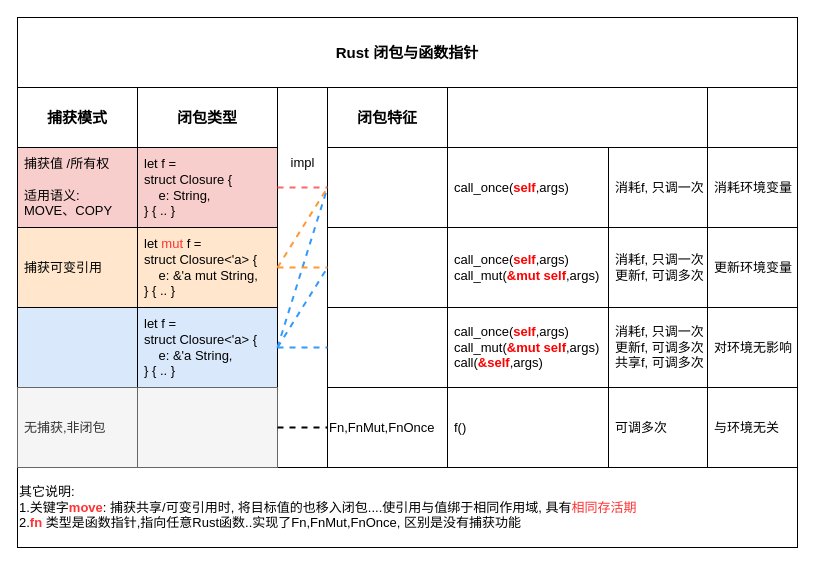
Some shapes in this 815 by 565 pixel diagram are drawn without their labels. Each missing label, with the box of its shape:
Fn: FnMut,FnOnce: (326, 306, 448, 388)
FnMut: FnOnce: (326, 226, 448, 308)
FnOnce: (326, 146, 448, 228)
let f: fn() -> r = FUNC: (136, 386, 278, 468)
捕获共享引用 或 不捕获: (16, 306, 138, 388)
特征方法: (446, 86, 708, 148)
环境影响: (706, 86, 798, 148)
